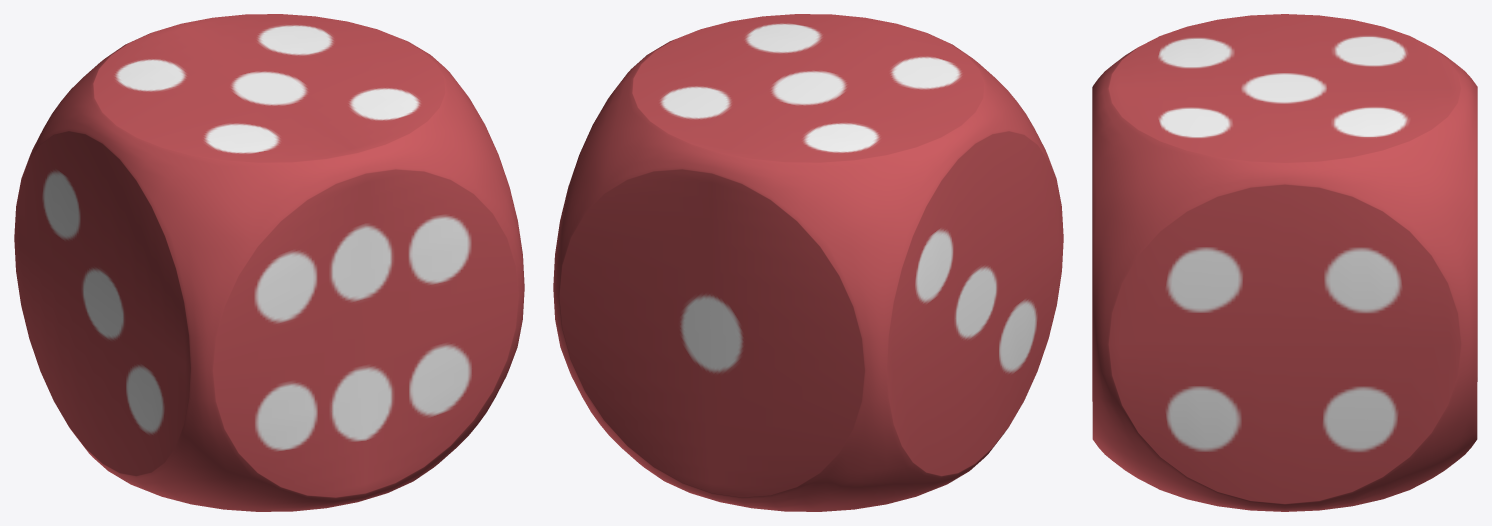
The model's file is dice.glb.
3 views of the same model, side by side, from view 1: azimuth 30°, elevation 25°; view 2: azimuth 150°, elevation 25°; view 3: azimuth 270°, elevation 25° (orthographic).
Parts seen in each view (by area): view 1: dice-red; view 2: dice-red; view 3: dice-red.
Part boxes in pixels (<box>): dice-red: <box>14,14,524,511</box>; dice-red: <box>553,14,1063,511</box>; dice-red: <box>1092,14,1477,511</box>.
Size of the model in its own units: 0.241 by 0.241 by 0.241.
2 materials, 2 textured.
